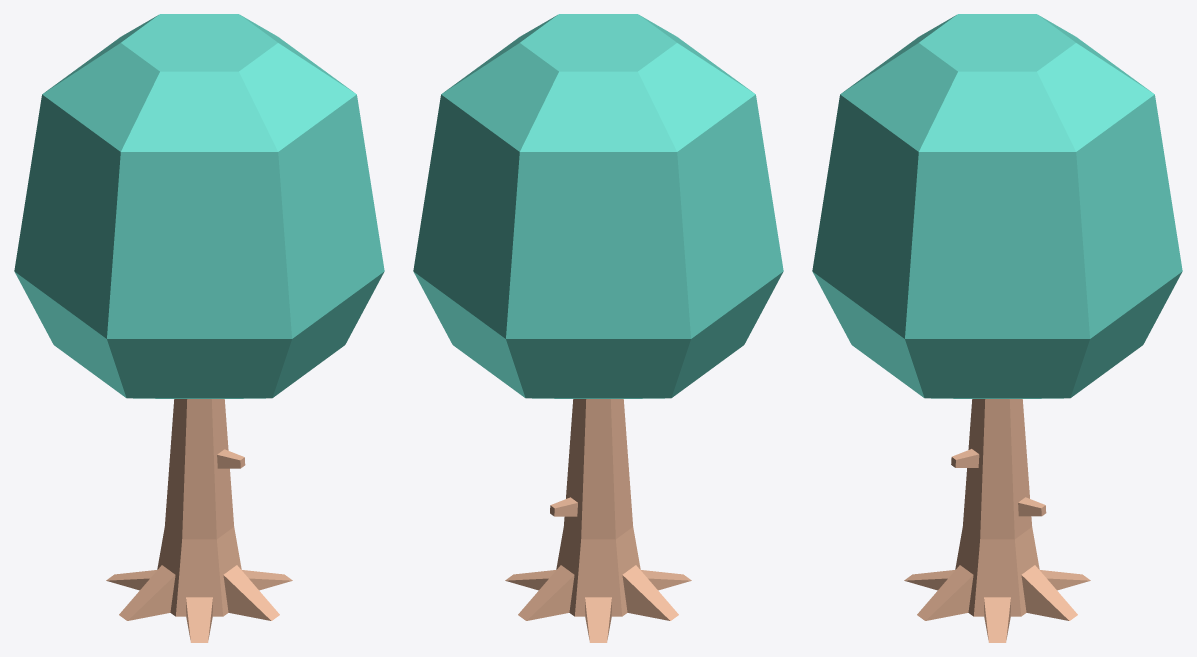
The model's file is tree_oak.gltf.
3 views of the same model, side by side, from view 1: azimuth 30°, elevation 25°; view 2: azimuth 150°, elevation 25°; view 3: azimuth 270°, elevation 25° (orthographic).
Parts seen in each view (by area): view 1: tree_oak; view 2: tree_oak; view 3: tree_oak.
Part boxes in pixels (<box>): tree_oak: <box>14,14,384,642</box>; tree_oak: <box>413,14,783,642</box>; tree_oak: <box>812,14,1182,642</box>.
Bounding box in the file's own units: 0.6406 × 1.23 × 0.7396.
